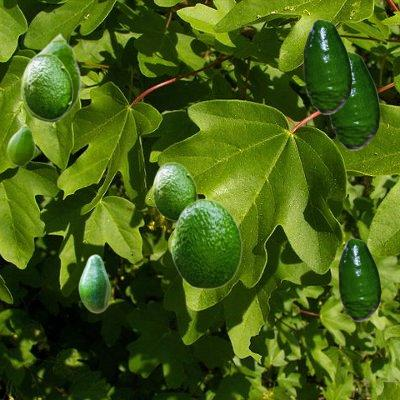avocado: (171, 198, 241, 288), (20, 32, 80, 122), (328, 51, 379, 149), (303, 19, 351, 113), (338, 238, 380, 320), (22, 53, 72, 119), (152, 162, 196, 220), (78, 254, 109, 312), (7, 123, 34, 165)
